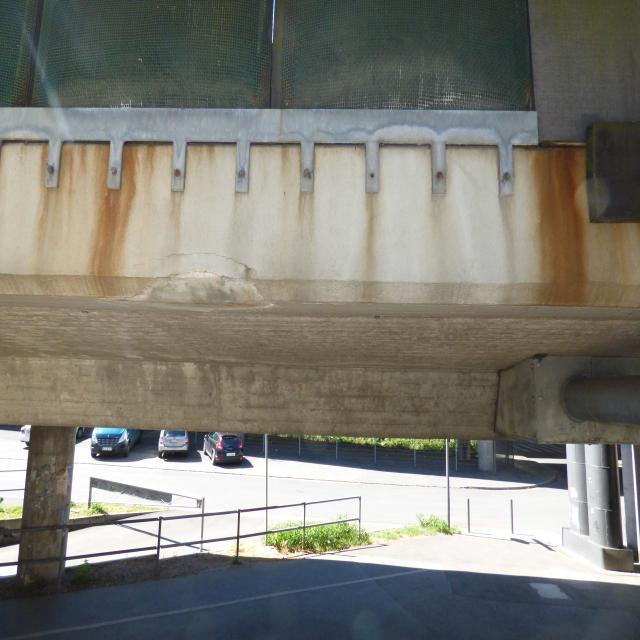corrosion: (3, 119, 640, 314)
